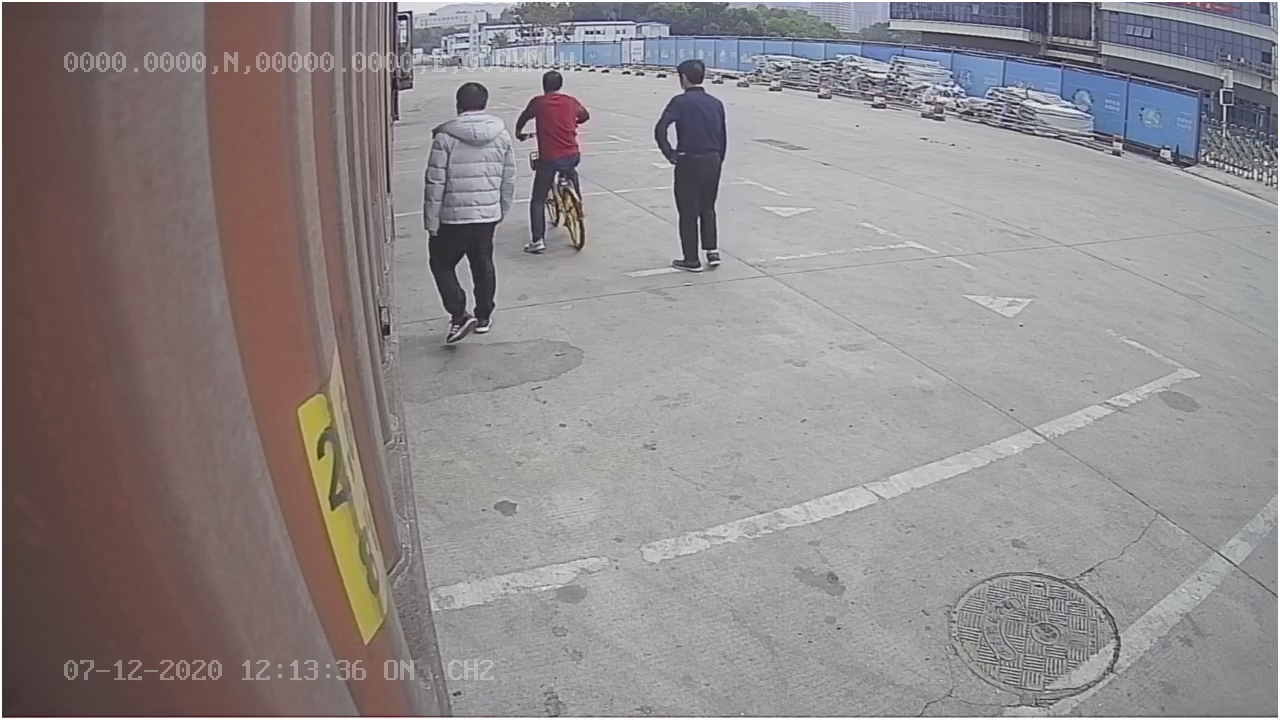person: (421, 78, 516, 348), (653, 55, 731, 273)
